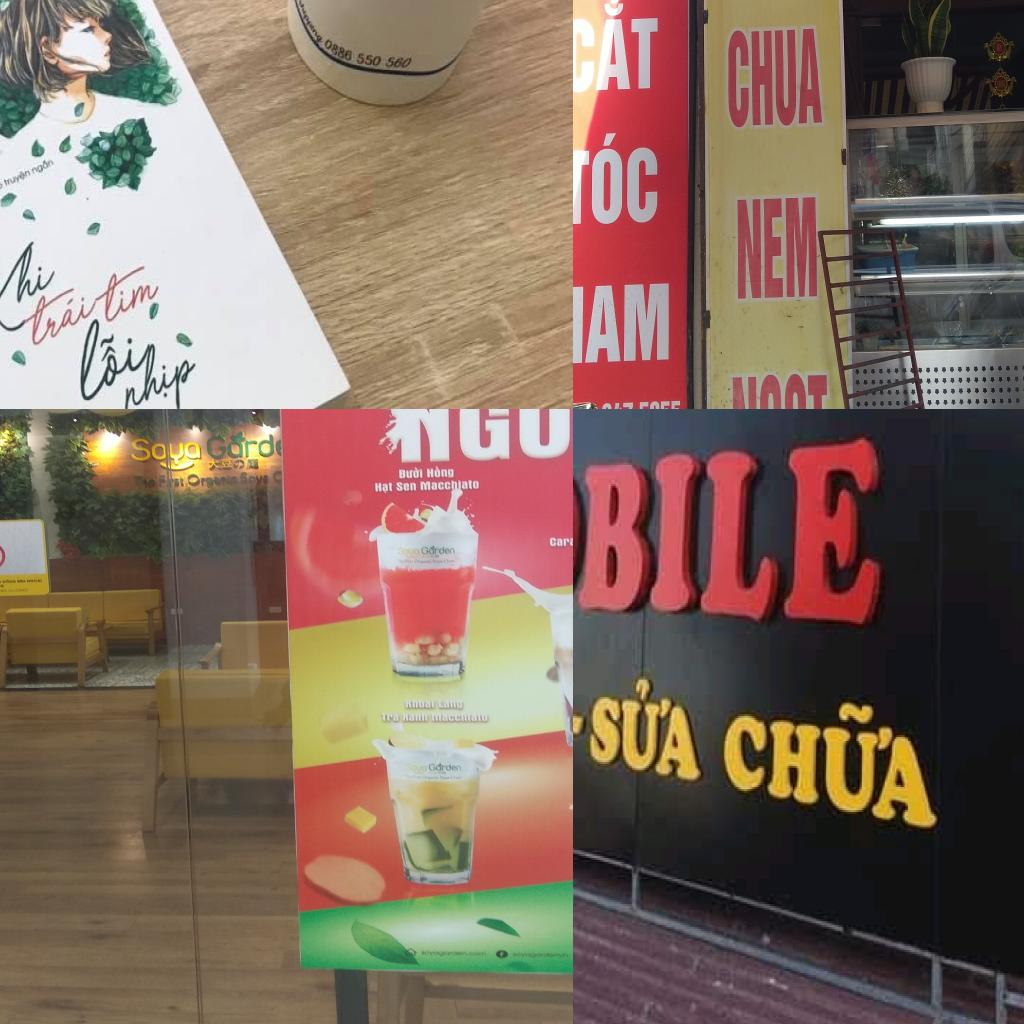text: (573, 430, 889, 635), (584, 674, 710, 789), (0, 209, 63, 388), (726, 24, 828, 130), (398, 409, 573, 464), (733, 194, 821, 303), (14, 260, 104, 357), (109, 320, 203, 409), (573, 0, 660, 95), (573, 131, 660, 226), (573, 282, 670, 367), (77, 310, 154, 409), (94, 250, 166, 332), (322, 35, 414, 80), (727, 371, 830, 409), (128, 438, 202, 466), (206, 433, 275, 458), (292, 0, 325, 51), (186, 473, 238, 489), (1, 166, 33, 190), (420, 479, 479, 491), (29, 153, 56, 179), (431, 713, 489, 723), (420, 950, 488, 957), (511, 951, 570, 959), (648, 396, 684, 409), (239, 471, 271, 485), (426, 466, 455, 479), (420, 546, 456, 555), (404, 700, 436, 710), (428, 763, 463, 772), (132, 474, 156, 487), (398, 467, 424, 479), (548, 536, 573, 547), (438, 699, 463, 710), (402, 713, 428, 722), (397, 546, 420, 556), (405, 763, 428, 773), (374, 482, 393, 494), (395, 482, 416, 492), (380, 712, 400, 722), (173, 476, 185, 486), (0, 177, 5, 200), (158, 474, 167, 486), (26, 577, 42, 583), (7, 588, 29, 592), (996, 80, 1006, 88), (2, 579, 16, 584), (996, 43, 1002, 52), (17, 578, 26, 584), (0, 583, 5, 588), (0, 578, 2, 584)
